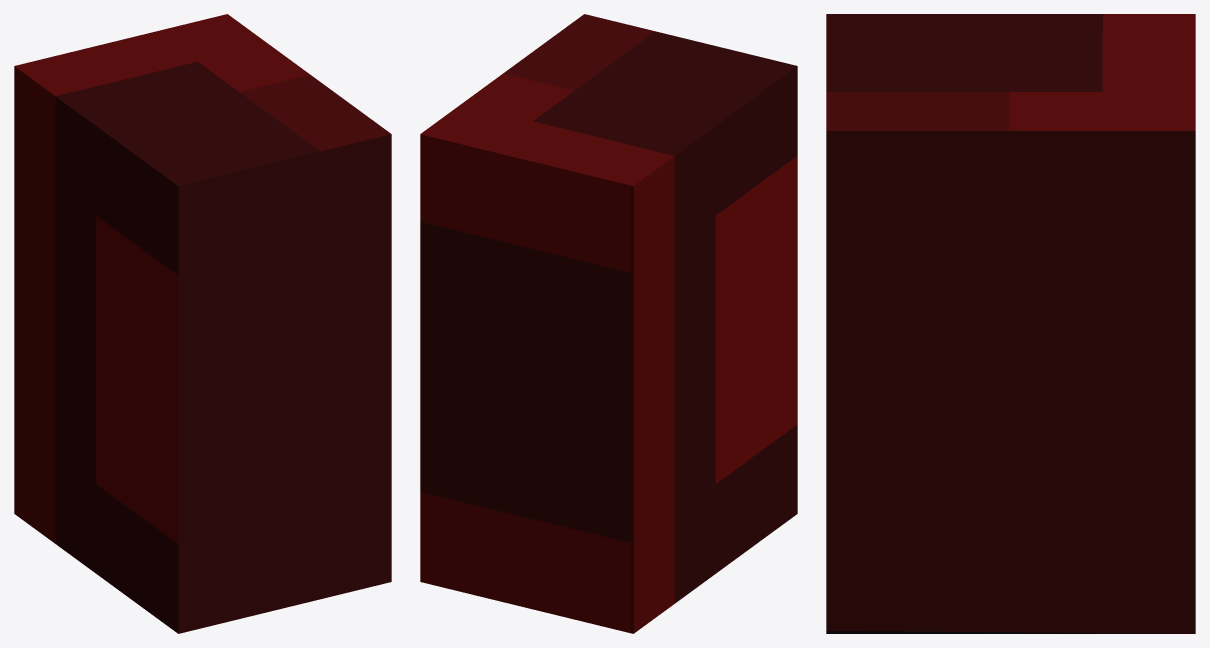
File: R_Leg_SpelunkersArmor.glb
3 renders of one model, left to right at view 1: azimuth 30°, elevation 25°; view 2: azimuth 150°, elevation 25°; view 3: azimuth 270°, elevation 25°, orthographic. The views are drawn at different scales.
Parts seen in each view (by area): view 1: R_Leg_SpelunkersArmor.001; view 2: R_Leg_SpelunkersArmor.001; view 3: R_Leg_SpelunkersArmor.001.
Part boxes in pixels (x1,y1,x2,y2): R_Leg_SpelunkersArmor.001: (14, 14, 391, 633); R_Leg_SpelunkersArmor.001: (420, 14, 797, 633); R_Leg_SpelunkersArmor.001: (826, 14, 1195, 633).
Size of the model in its own units: 18.75 by 37.6 by 25.
1 material, 1 textured.
